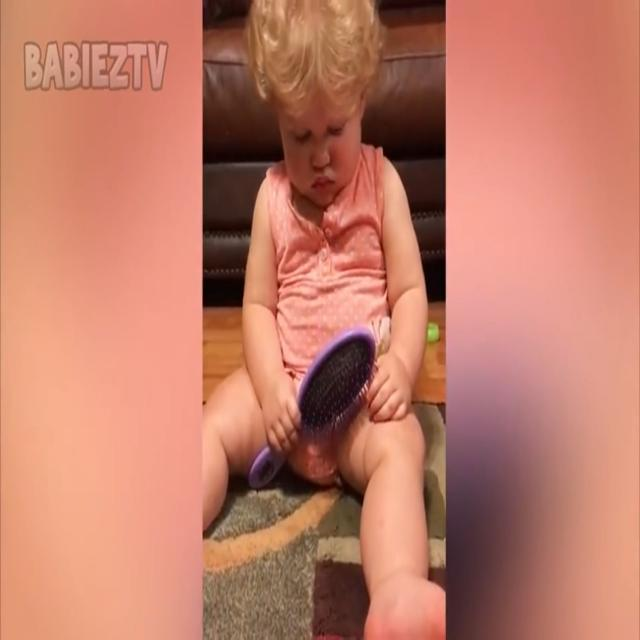child: (202, 0, 446, 640)
